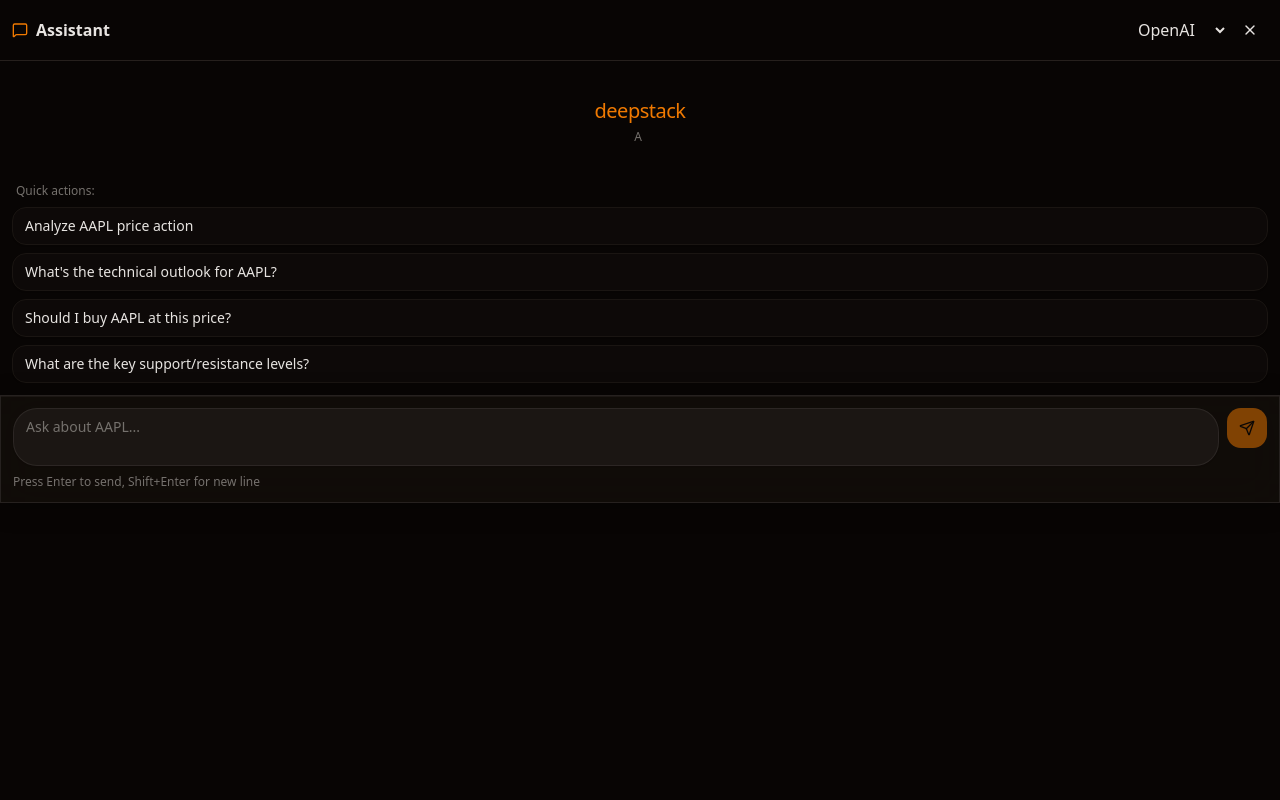
Test case: ChatSidePanel › Loading State › shows loading spinner when sending
This screenshot has width=1280, height=800.
Type "Test" into the text box with placeholder "Ask about AAPL...".
click(616, 437); type("Test")  # box [13,408,1219,466]
Then press Enter
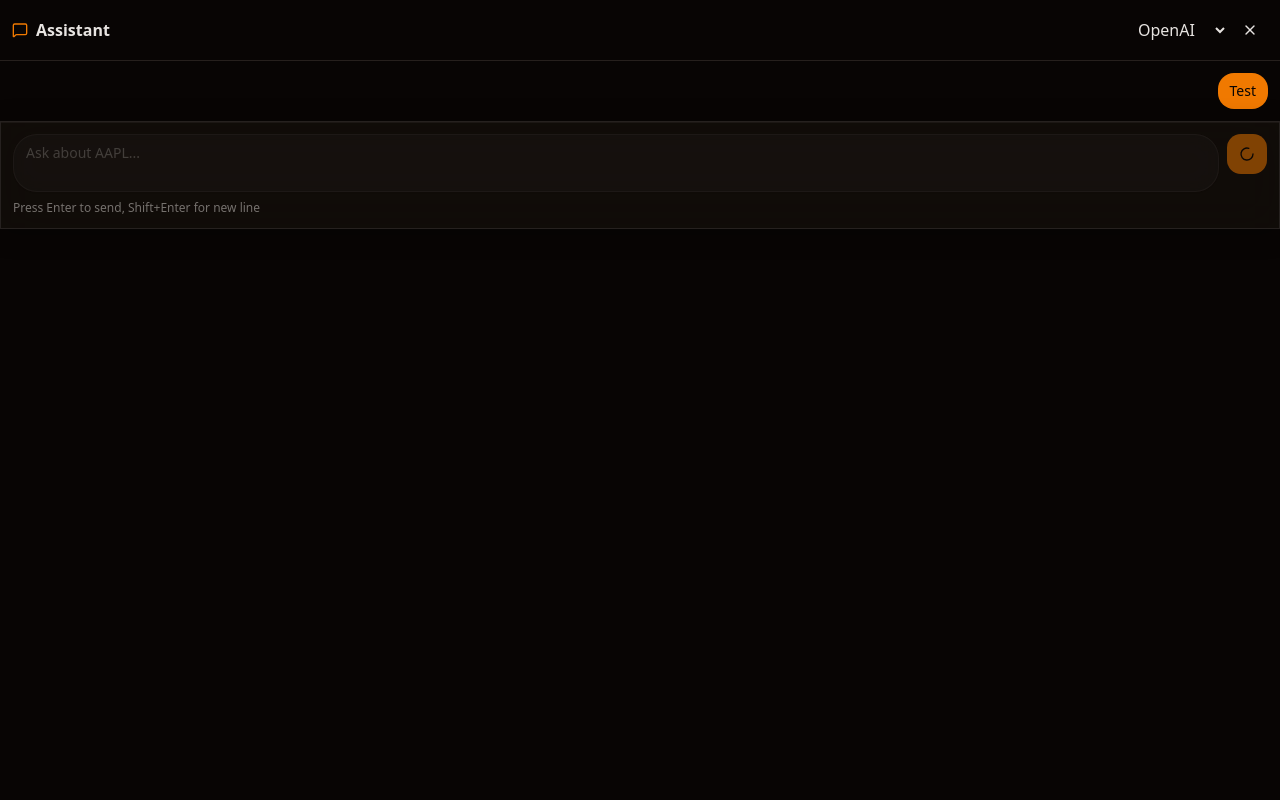
Now the icon with class "animate-spin" is shown, box [1239,146,1255,162]
